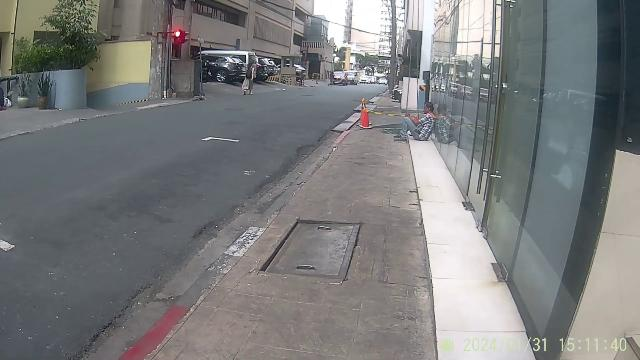potted_plant: (16, 2, 102, 114)
utility_post: (386, 1, 402, 99)
